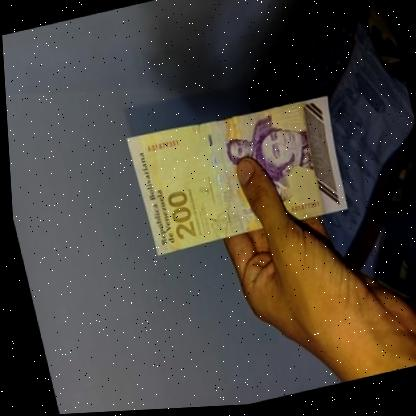two_hundred-front-vef: (121, 94, 353, 260)
